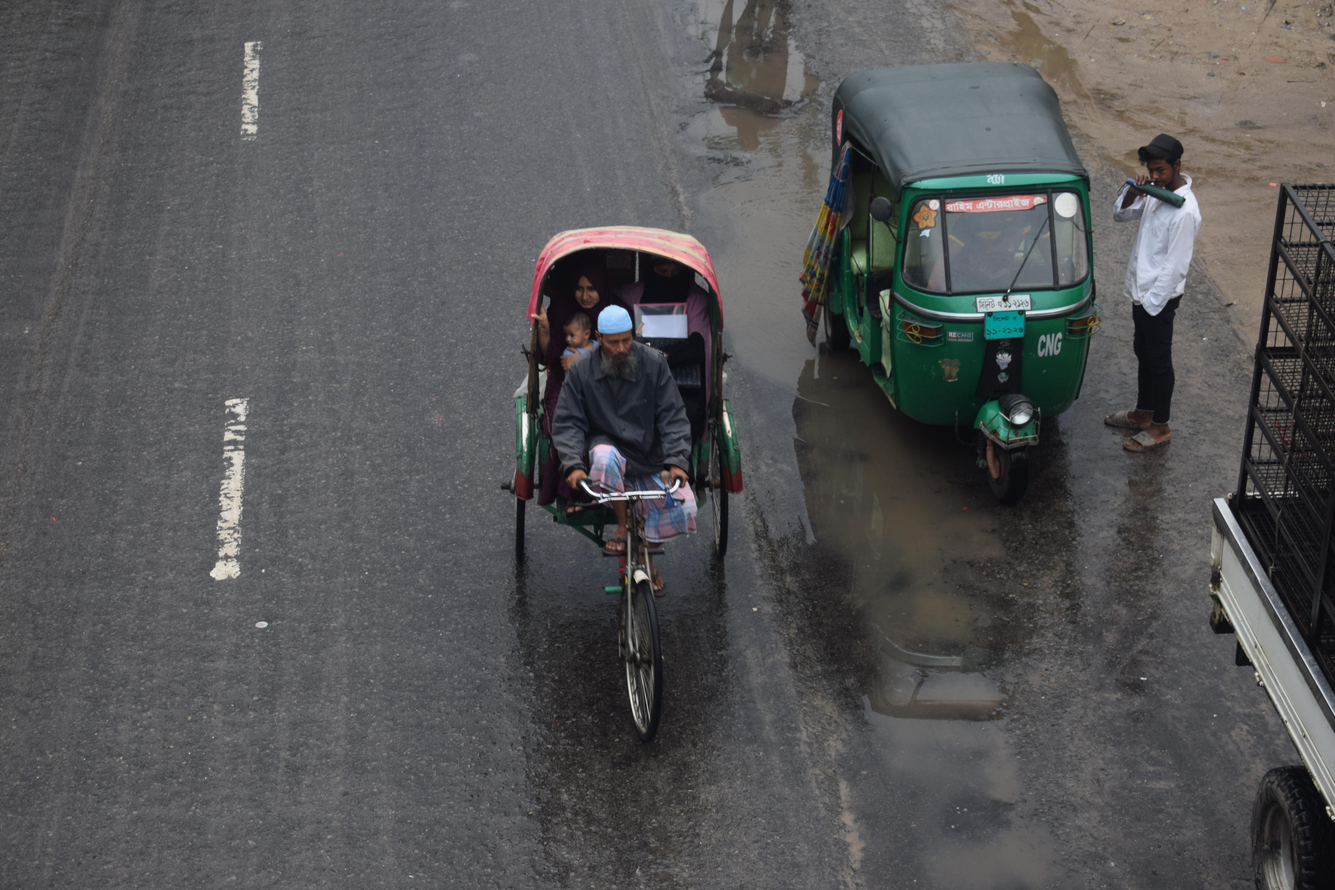Car: (381, 157, 827, 783)
